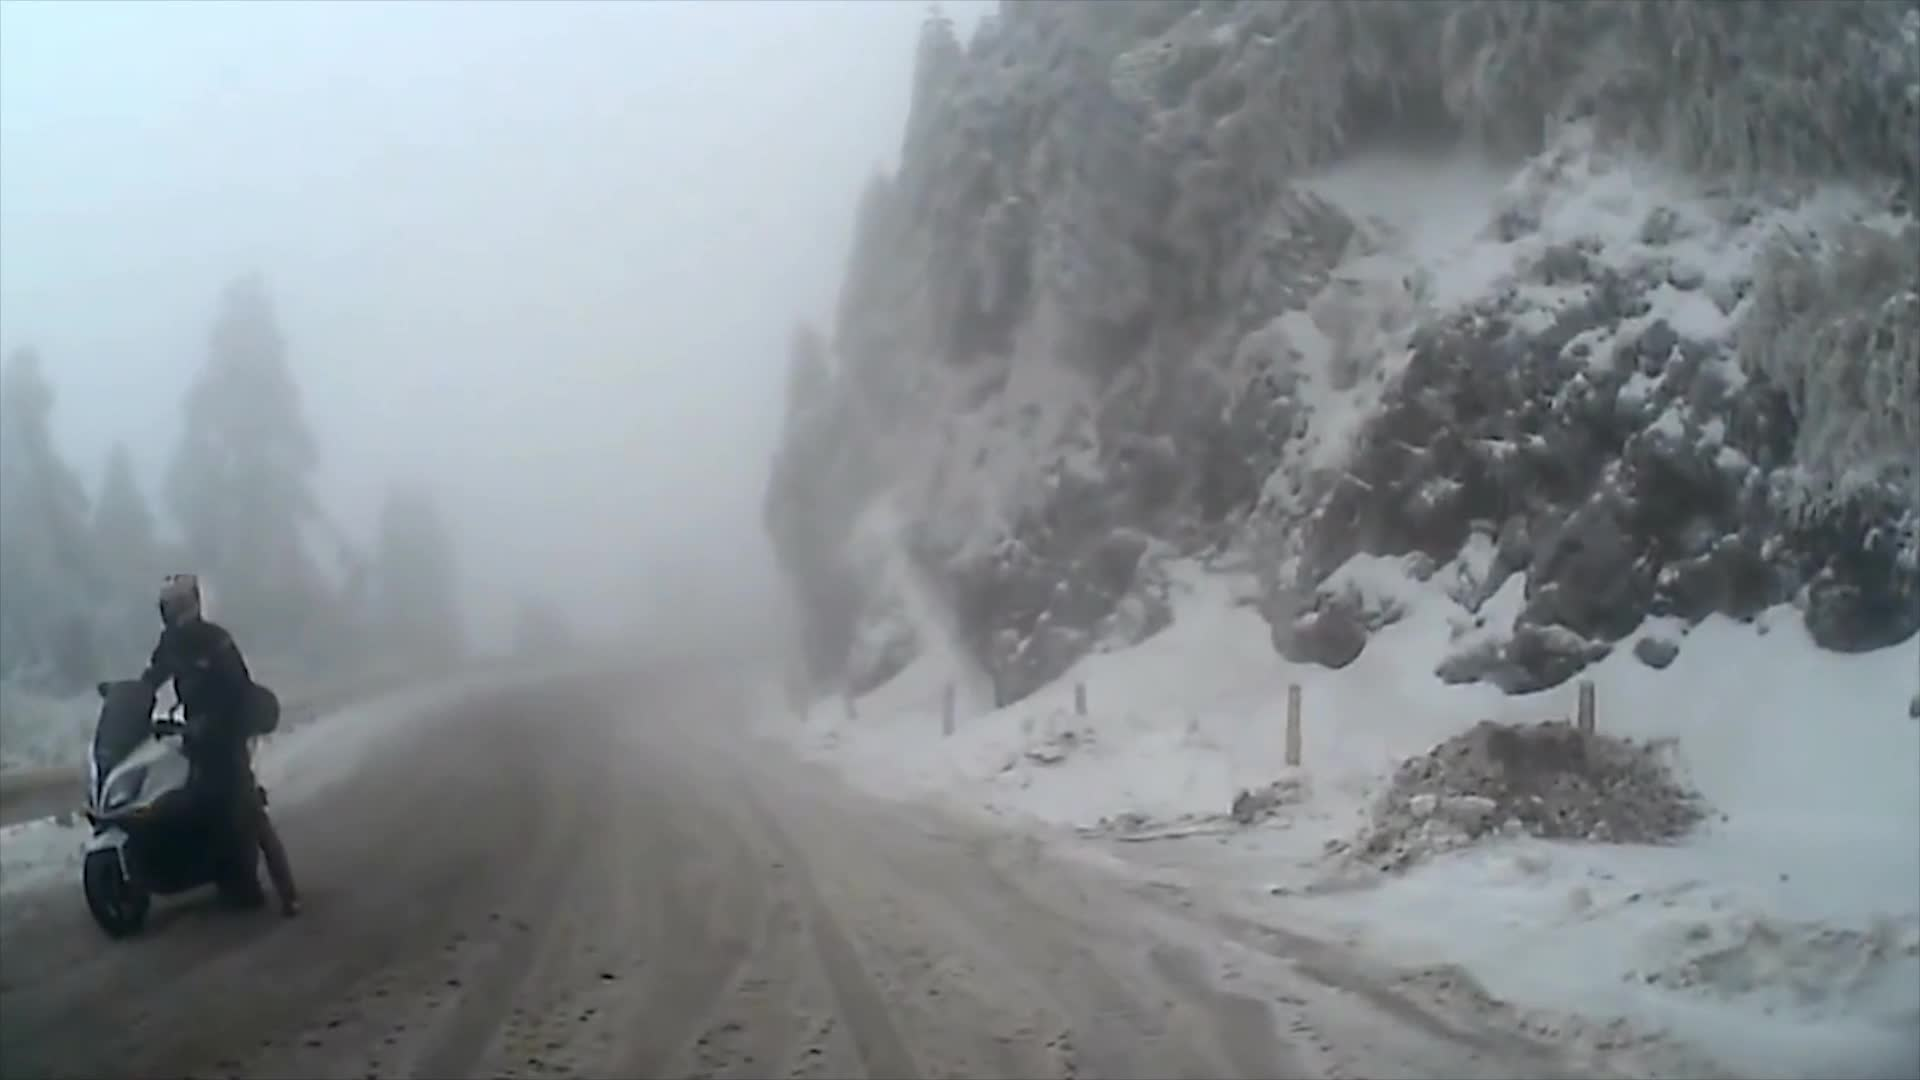pedestrian: (109, 567, 301, 925)
